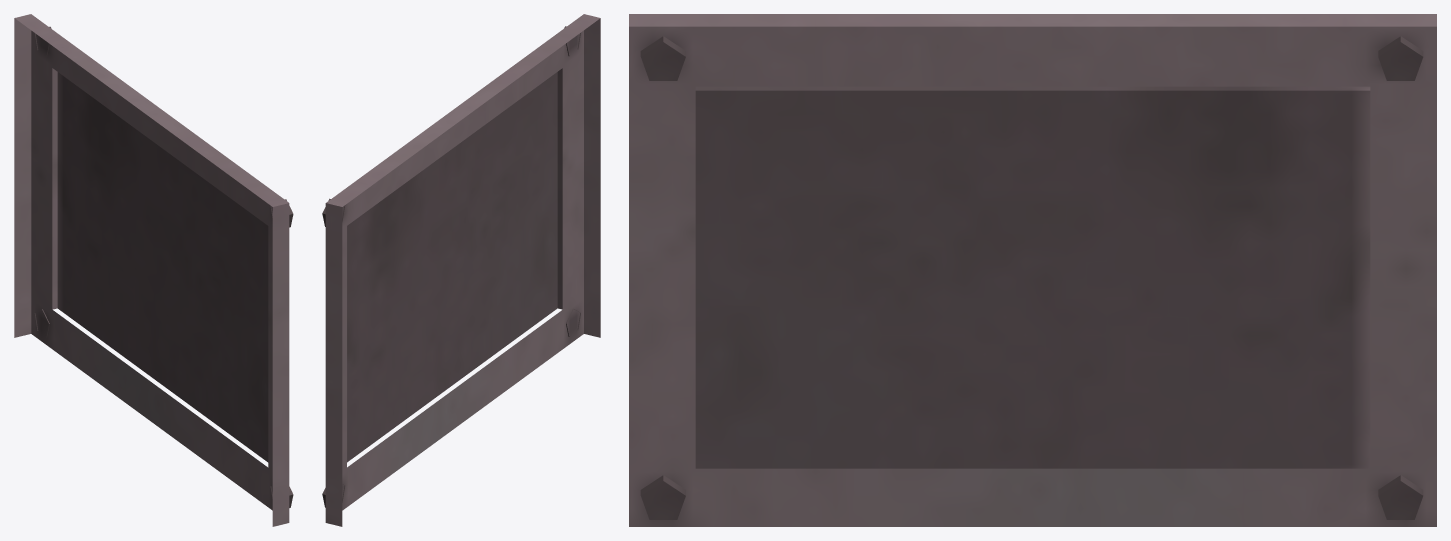
Rendered from TileSet11_WireBox.fbx.
3 renders of one model, left to right at view 1: azimuth 30°, elevation 25°; view 2: azimuth 150°, elevation 25°; view 3: azimuth 270°, elevation 25°, orthographic. The views are drawn at different scales.
Parts seen in each view (by area): view 1: Interior_Navio:pCylinder20; view 2: Interior_Navio:pCylinder20; view 3: Interior_Navio:pCylinder20.
Boxes of the visible parts, box(x1,y1,x2,y2) form: Interior_Navio:pCylinder20: box(14, 14, 293, 526); Interior_Navio:pCylinder20: box(322, 14, 600, 526); Interior_Navio:pCylinder20: box(629, 14, 1436, 526).
Bounding box in the file's own units: 0.0523 × 0.6531 × 0.9558.
1 material, 1 textured.
